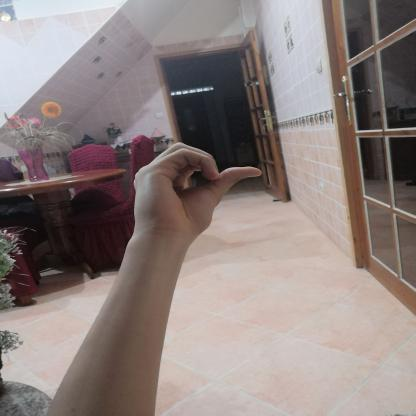WAW: (119, 132, 272, 252)
